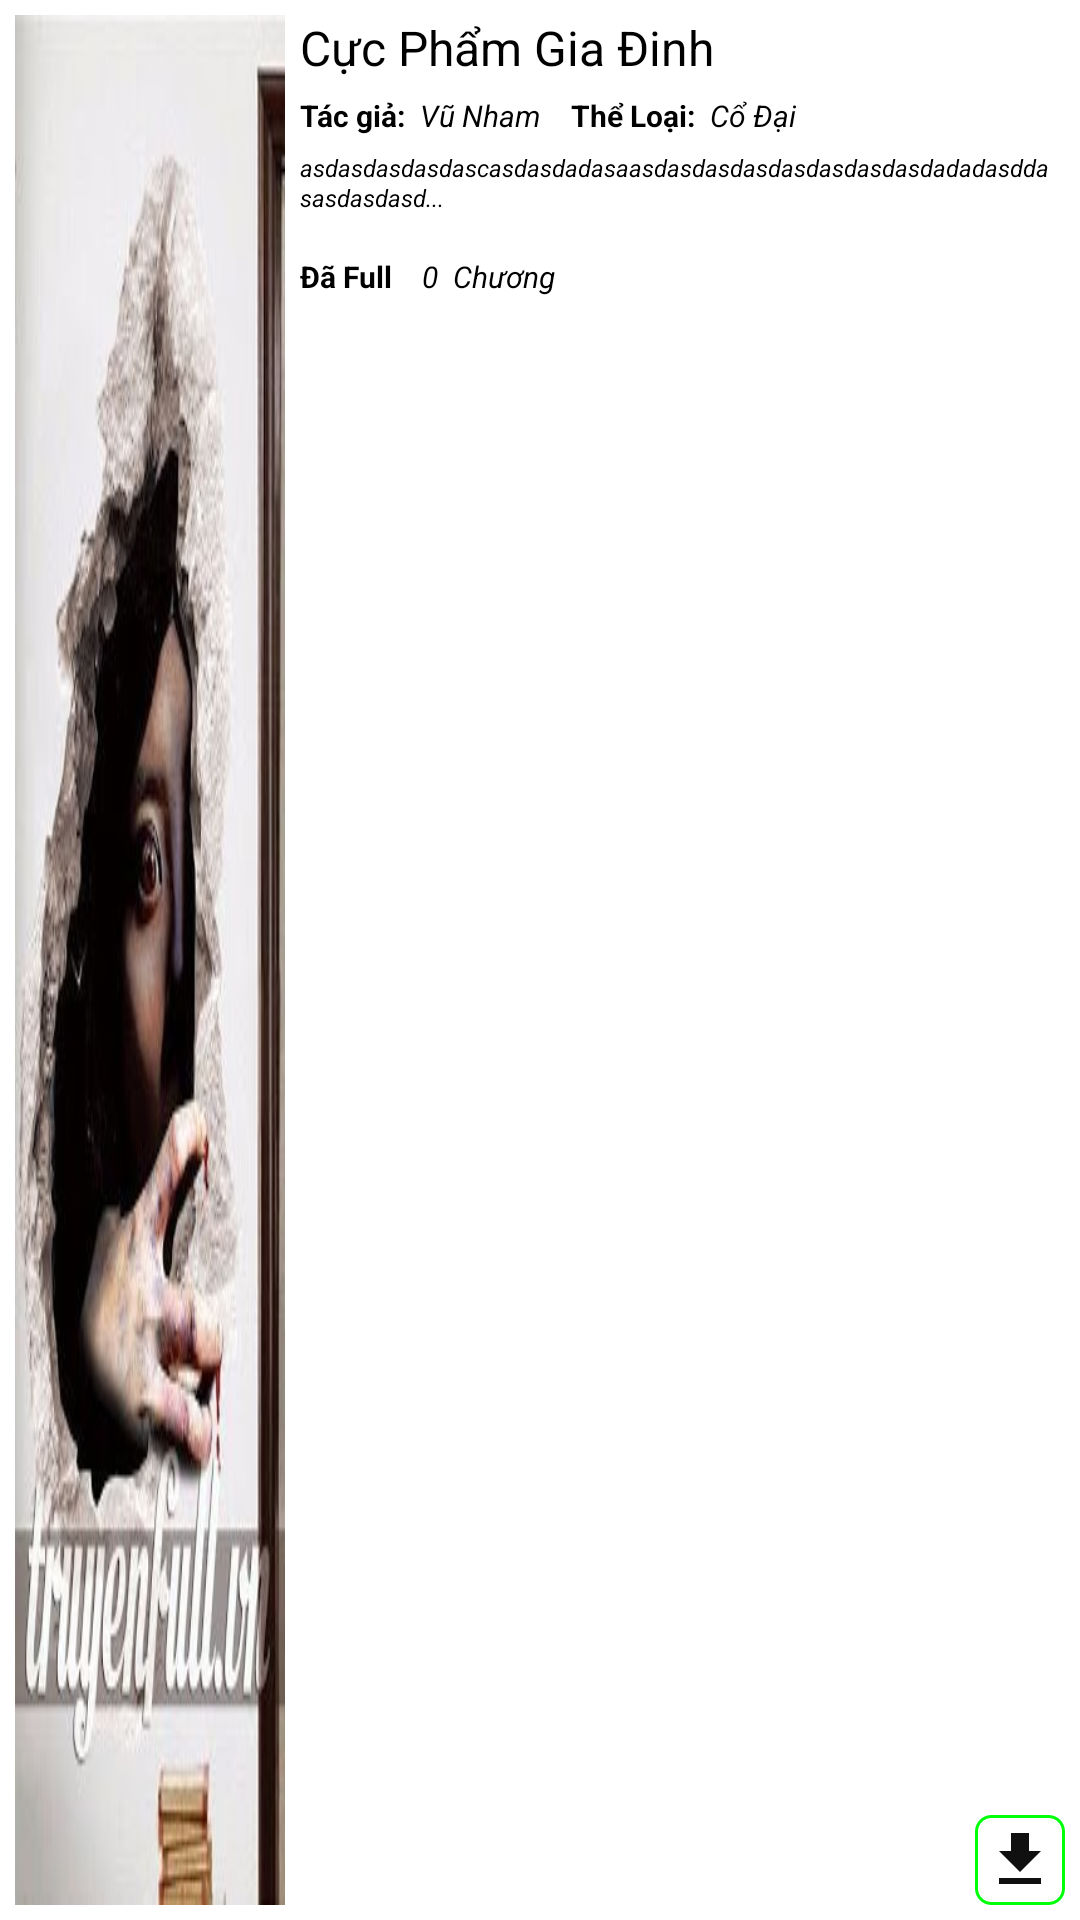

Icon click points for this 1080px x 1920px phone screenshot, format (x=x, y=y):
download: (x=1020, y=1860)
